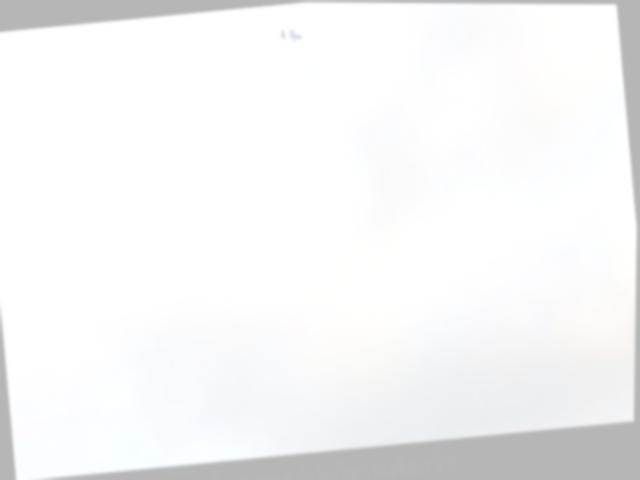uav: (268, 17, 312, 52)
